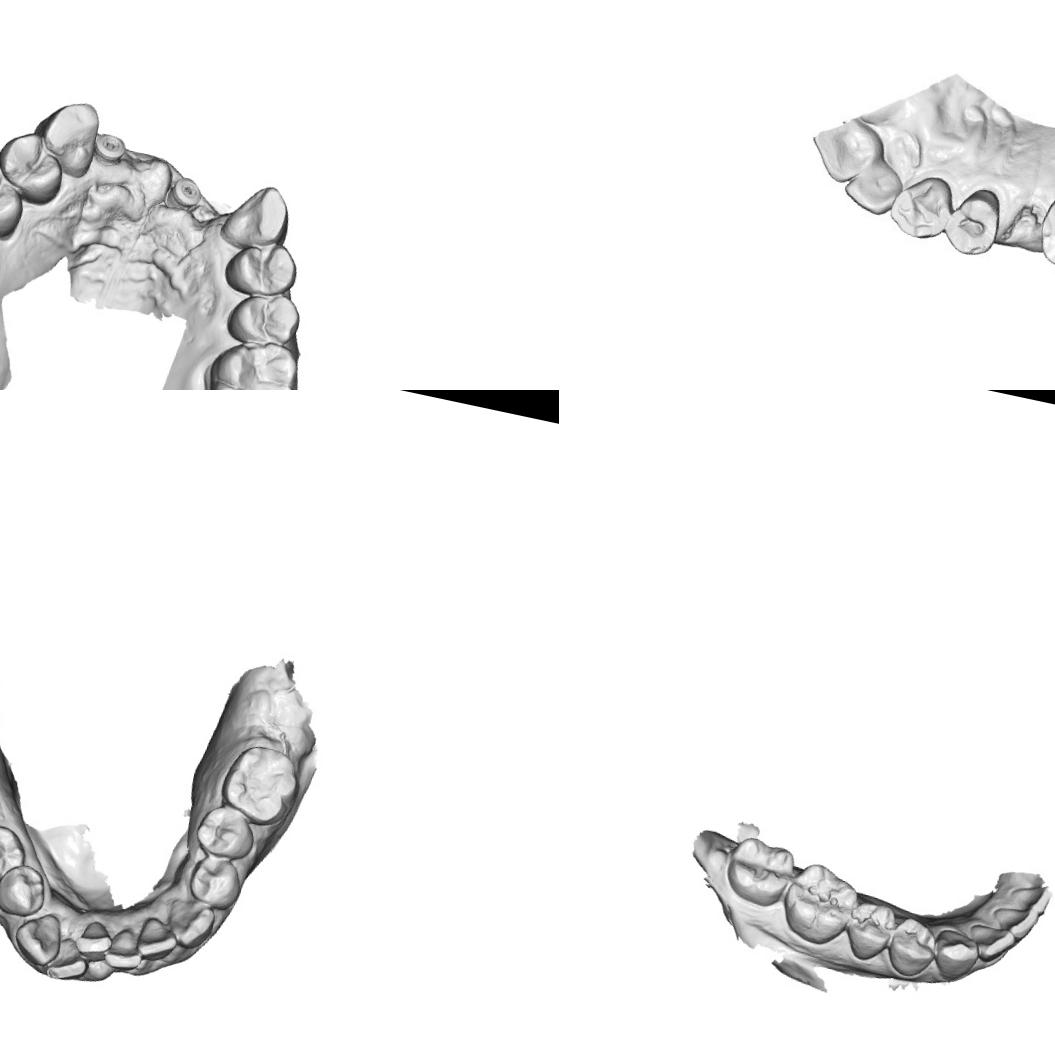canine: (27, 93, 104, 180), (216, 177, 297, 256), (886, 166, 960, 246), (9, 906, 66, 970), (926, 924, 982, 986), (162, 895, 218, 954)
implant: (91, 128, 130, 166)
implant_minus: (162, 172, 204, 214)
incisor: (806, 114, 884, 192), (839, 166, 906, 220), (962, 920, 1018, 968), (43, 934, 94, 986), (134, 914, 181, 965), (101, 924, 148, 974), (986, 900, 1040, 943), (72, 918, 116, 965), (1007, 879, 1055, 917)
molar: (776, 858, 865, 952), (214, 740, 304, 832), (199, 331, 307, 390), (720, 833, 799, 911), (1030, 170, 1055, 278)
premolar: (0, 123, 71, 210), (221, 282, 306, 354), (219, 234, 303, 305), (942, 185, 1004, 263), (192, 800, 260, 864), (882, 913, 941, 982), (841, 897, 899, 966), (183, 852, 246, 914), (0, 859, 50, 920), (0, 156, 33, 245), (0, 819, 31, 884)
